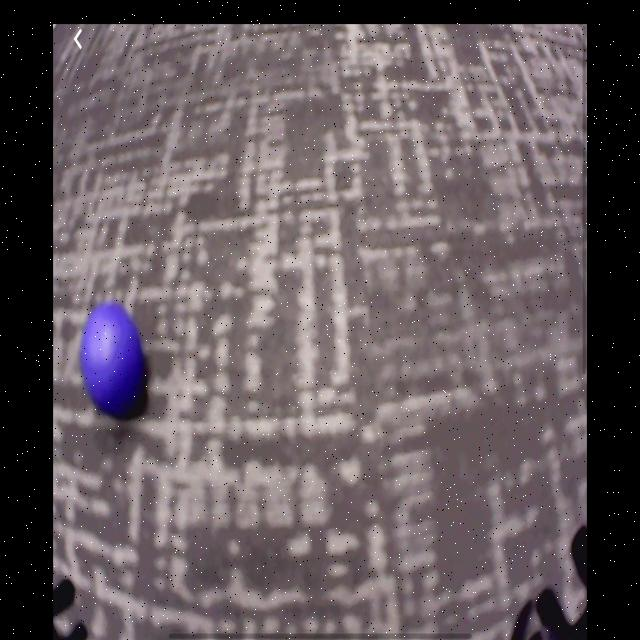ball: (81, 309, 147, 412)
